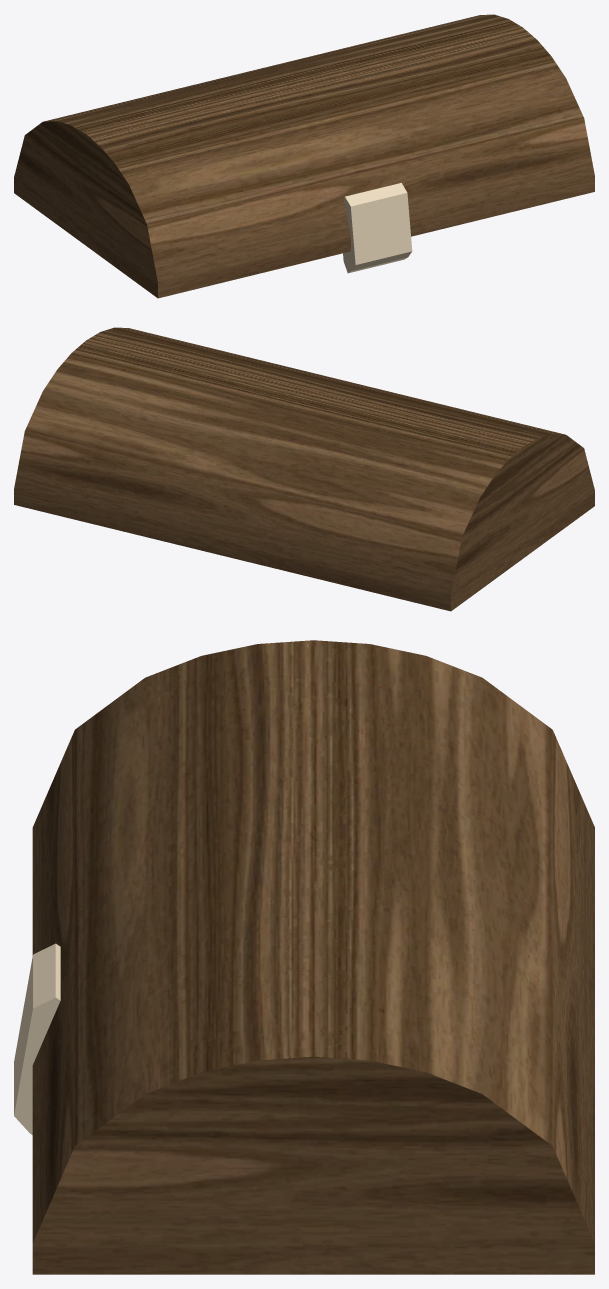
The model's file is Chest Top.001.glb.
3 views of the same model, one above another, from view 1: azimuth 30°, elevation 25°; view 2: azimuth 150°, elevation 25°; view 3: azimuth 270°, elevation 25° (orthographic). The views are drawn at different scales.
Visible parts, largest first — view 1: chest_top.001; view 2: chest_top.001; view 3: chest_top.001.
Part boxes in pixels (x1,y1,x2,y2): chest_top.001: [14, 14, 594, 298]; chest_top.001: [14, 327, 594, 611]; chest_top.001: [14, 640, 594, 1274].
Size of the model in its own units: 0.3505 by 0.1042 by 0.2066.
Materials: 2 (1 with a texture image).
